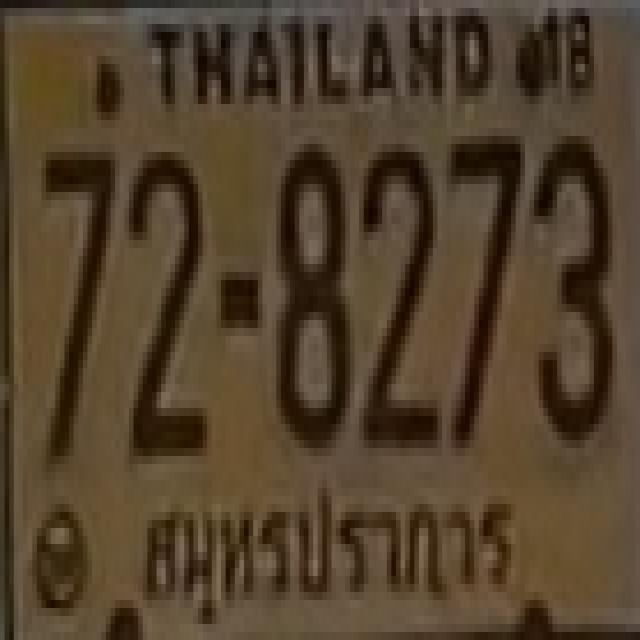2: (124, 148, 203, 452), (359, 140, 433, 444)
3: (532, 128, 610, 440)
7: (447, 128, 520, 440), (41, 144, 110, 456), (447, 128, 520, 408)
8: (272, 136, 345, 440)
SPK: (134, 486, 526, 616)
